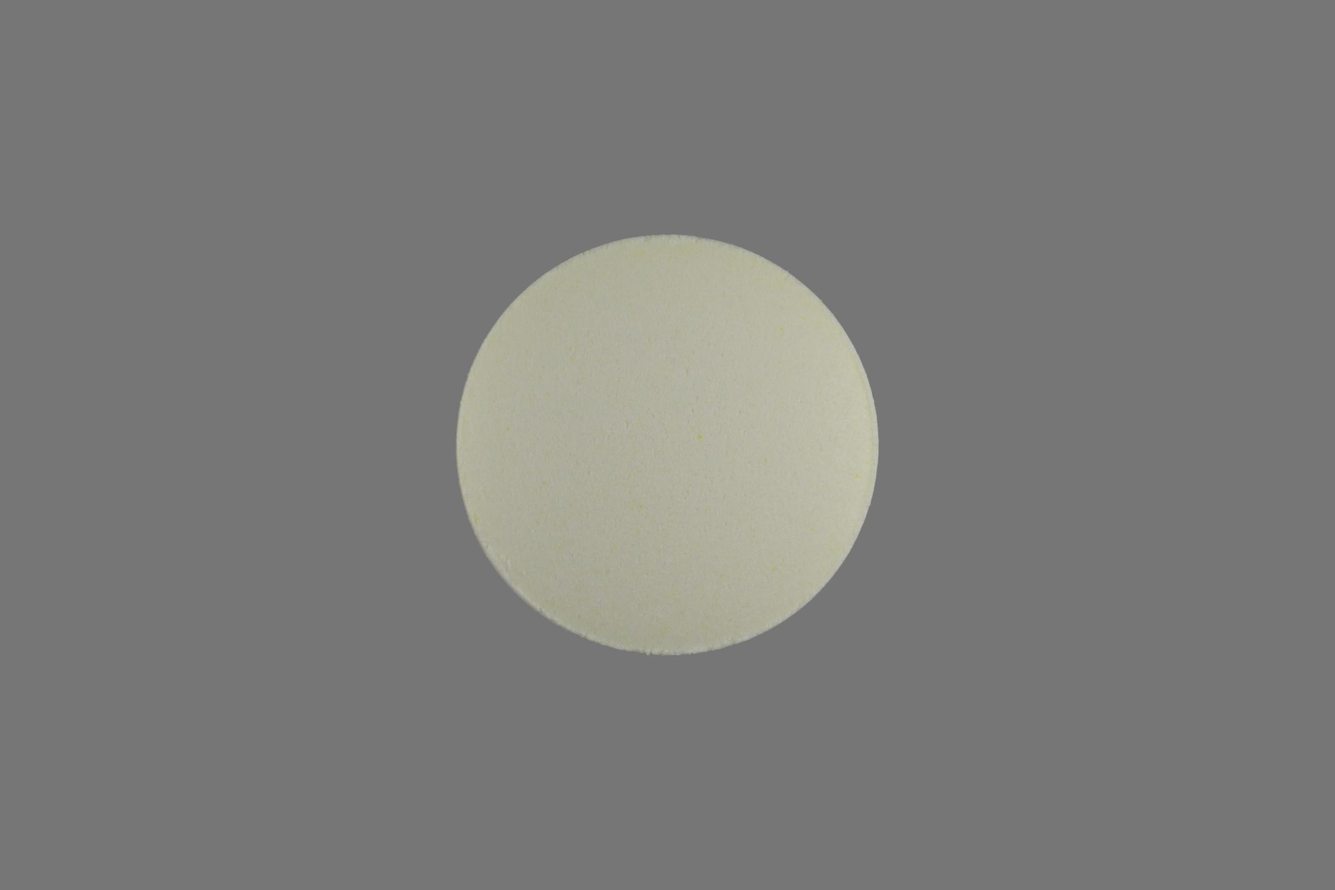Pill: (441, 224, 894, 668)
